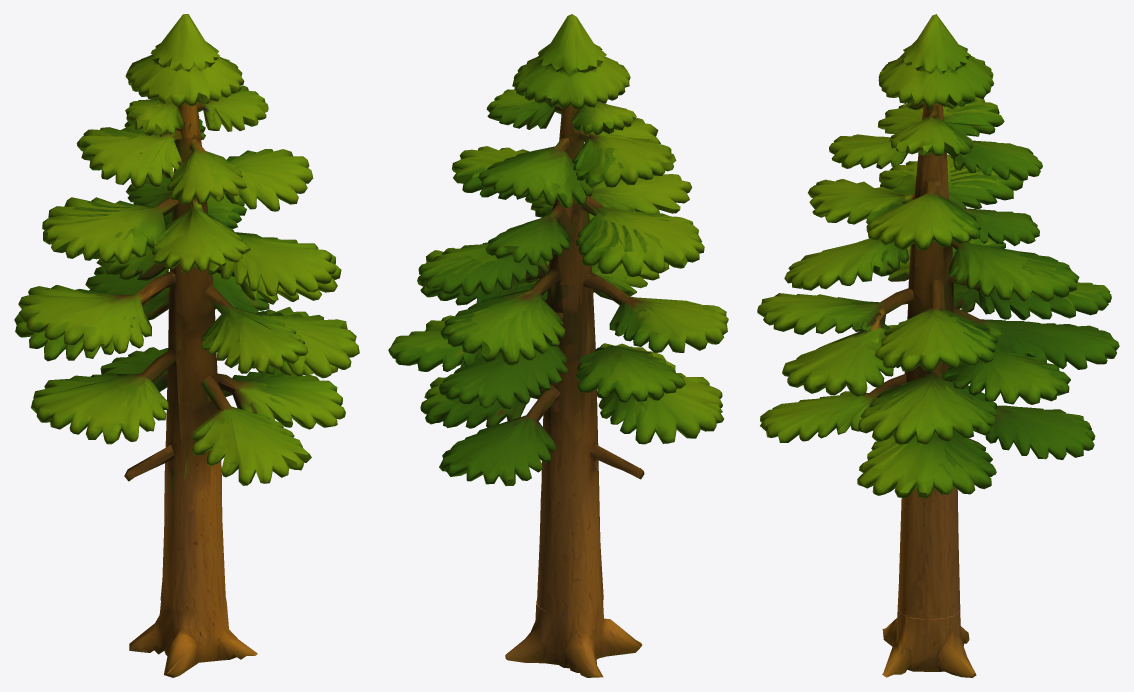
File: Sosna.fbx
3 views of the same model, side by side, from view 1: azimuth 30°, elevation 25°; view 2: azimuth 150°, elevation 25°; view 3: azimuth 270°, elevation 25° (orthographic).
Parts seen in each view (by area): view 1: Tree, Pen; view 2: Tree, Pen; view 3: Tree, Pen.
Boxes of the visible parts, <box> form: Tree: <box>14,14,359,612</box>; Pen: <box>129,597,257,677</box>; Tree: <box>388,14,728,615</box>; Pen: <box>505,600,642,677</box>; Tree: <box>757,14,1119,619</box>; Pen: <box>882,607,976,677</box>.
Size of the model in its own units: 58.98 by 118 by 60.27.
